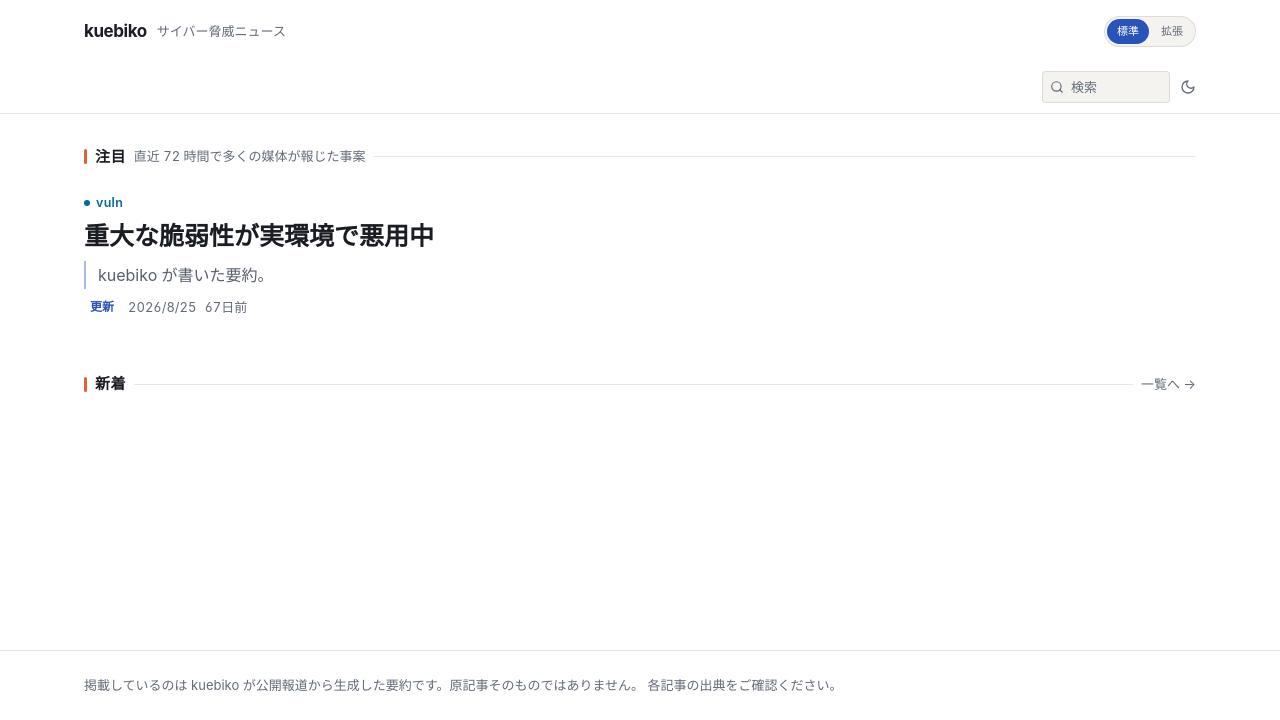
続報バッジ › 更新の経緯は「加わった要素」で示す (本文の行差分ではない)
Click the heading "重大な脆弱性が実環境で悪用中": (259, 236) x1=84 y1=221 x2=434 y2=251
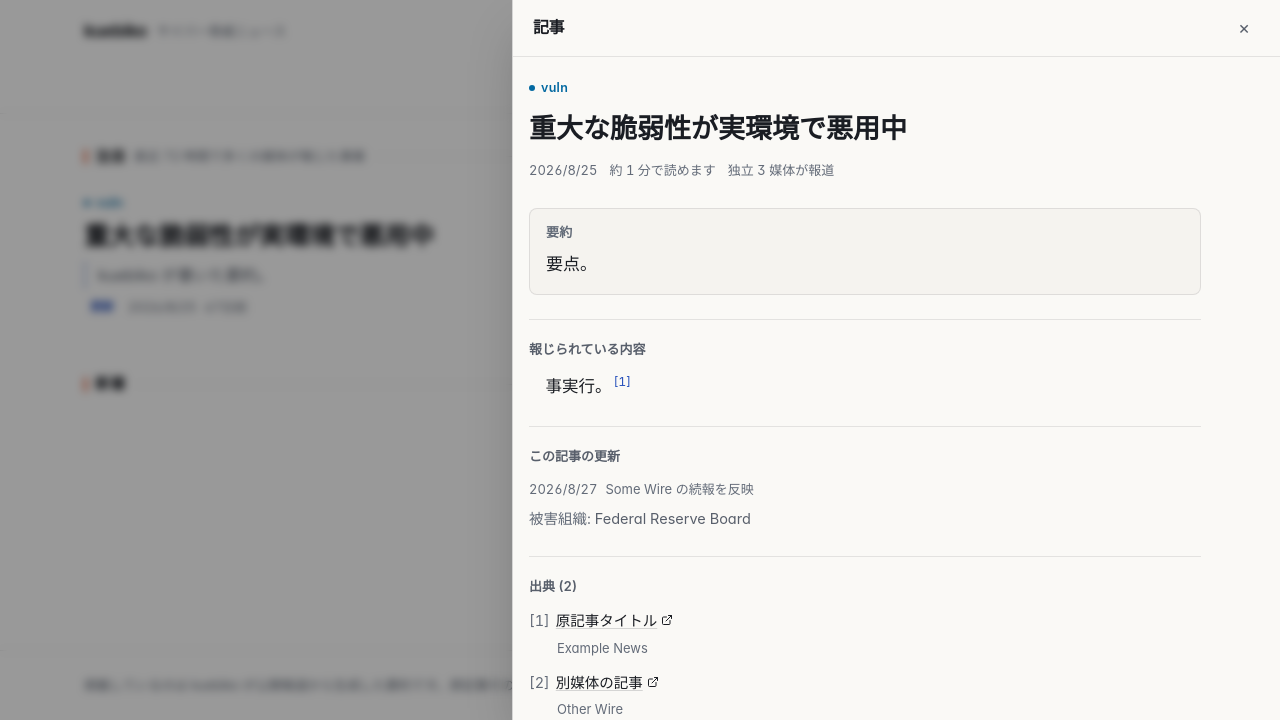
Now the heading "この記事の更新" is shown, box x1=529 y1=448 x2=620 y2=464
Now the list item "Federal Reserve Board" is shown, box x1=595 y1=510 x2=751 y2=527
